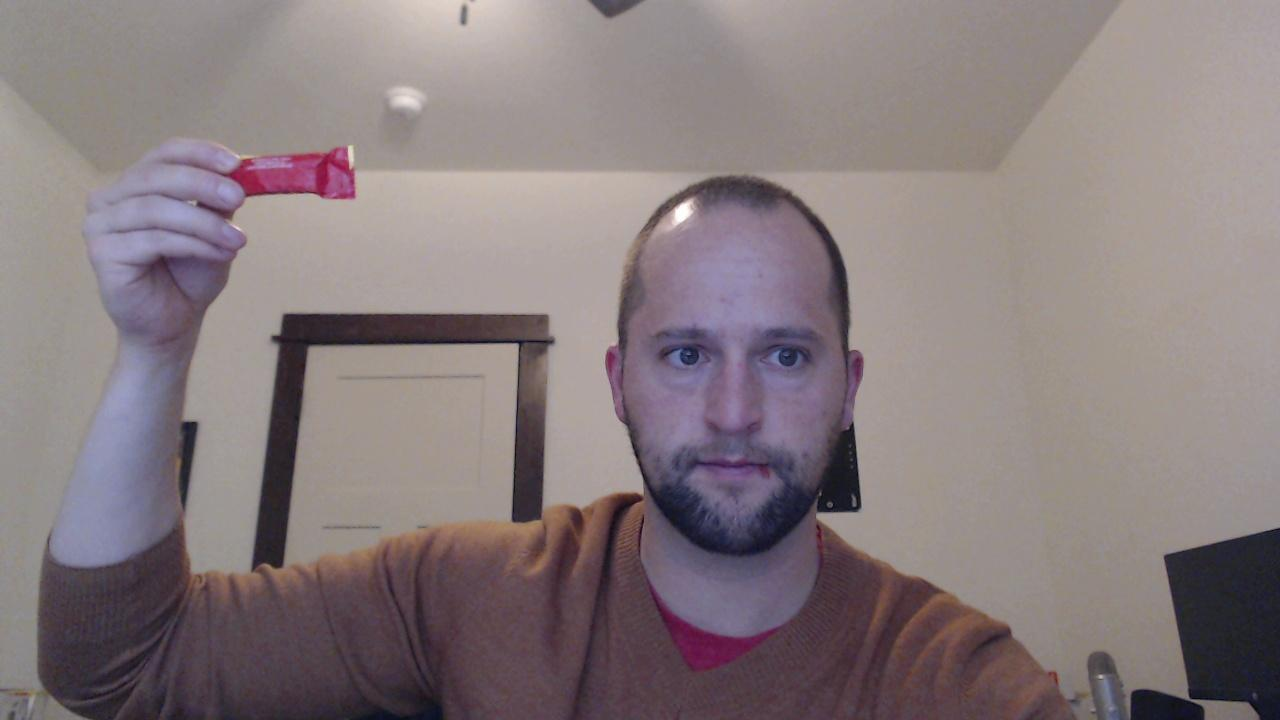starburst: (225, 147, 359, 202)
